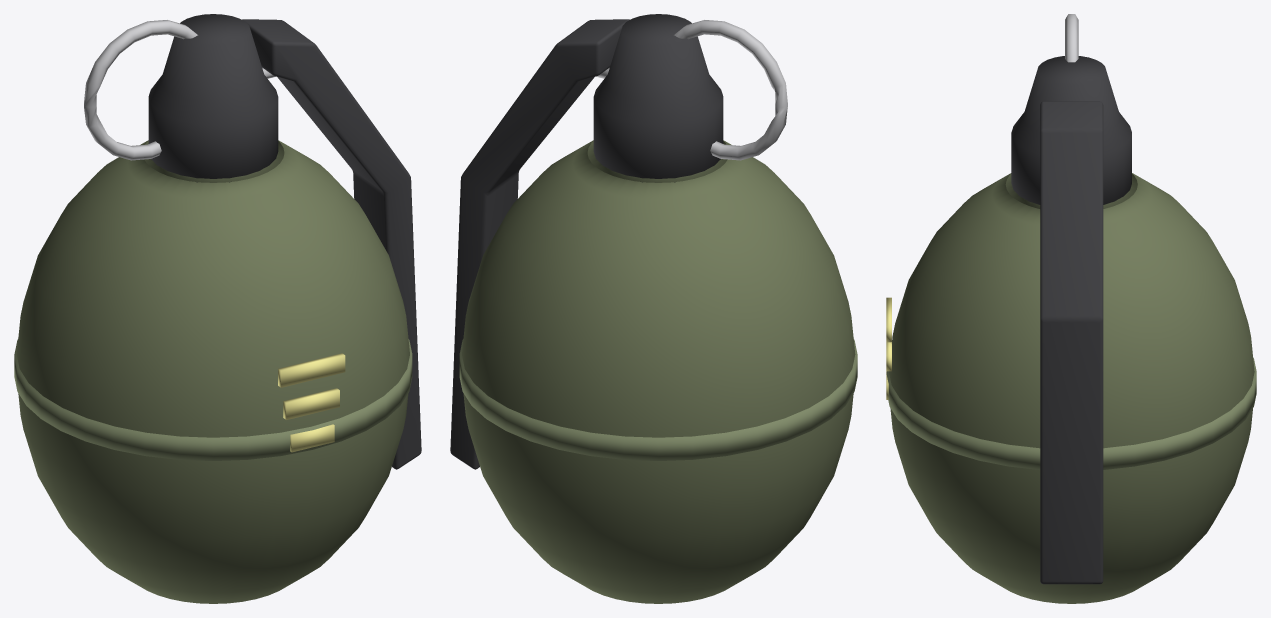
File: SM_FragGrenade.glb
The picture shows the model from 3 angles, left to right: view 1: azimuth 30°, elevation 25°; view 2: azimuth 150°, elevation 25°; view 3: azimuth 270°, elevation 25°; orthographic projection. The views are drawn at different scales.
Visible parts, largest first — view 1: SM_FragGrenade; view 2: SM_FragGrenade; view 3: SM_FragGrenade.
Boxes of the visible parts, x1,y1,x2,y2 form: SM_FragGrenade: [14, 14, 421, 603]; SM_FragGrenade: [450, 14, 857, 603]; SM_FragGrenade: [886, 14, 1256, 603].
Size of the model in its own units: 0.0682 by 0.104 by 0.0645.
